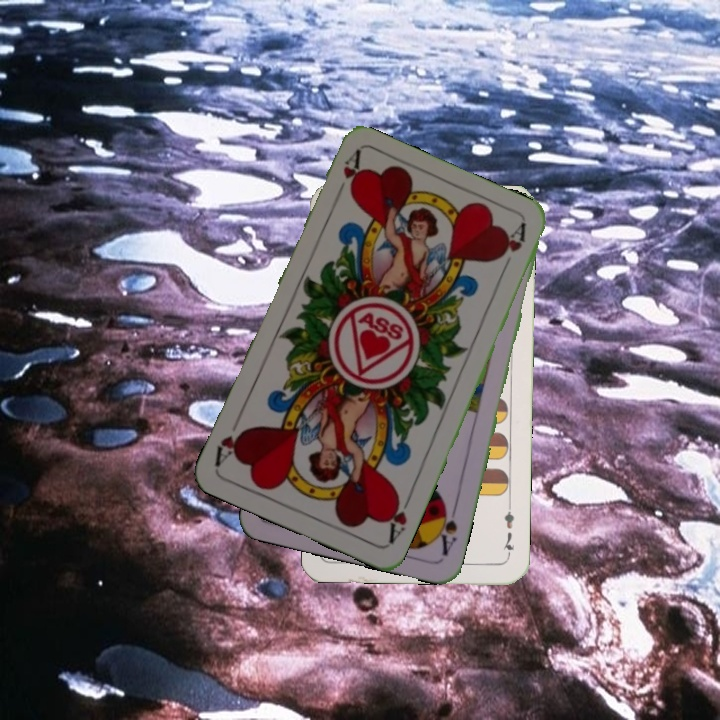E7: (500, 500, 517, 559)
HA: (330, 148, 365, 204), (382, 489, 415, 547)
SA: (432, 499, 460, 559)
